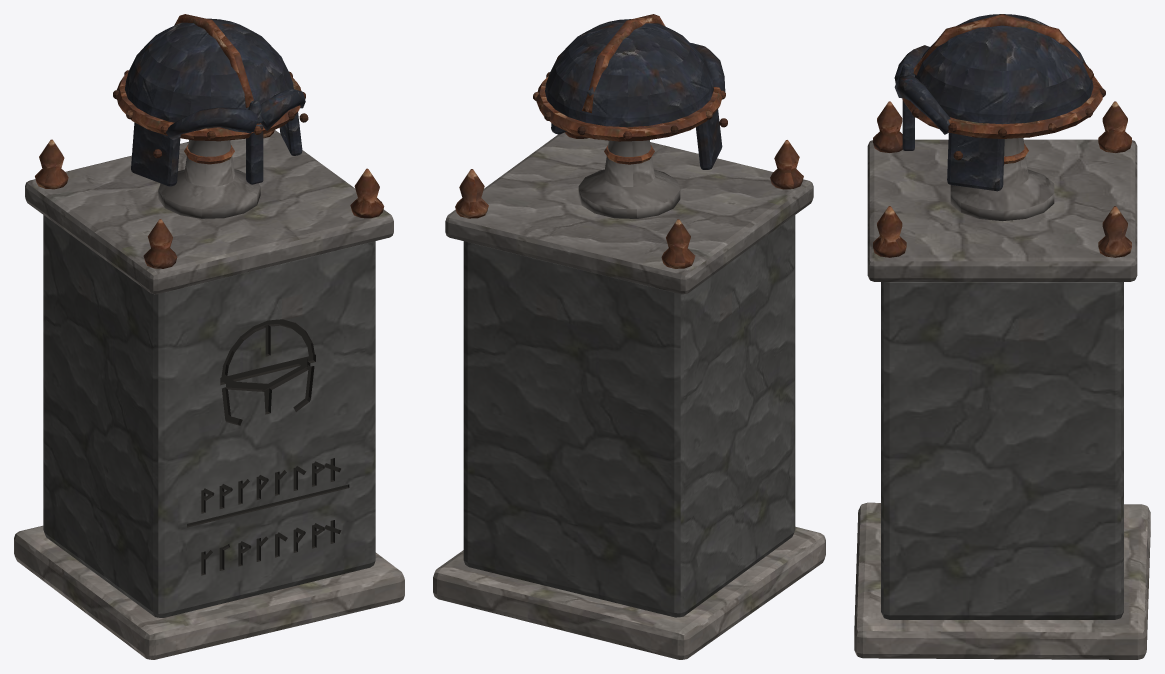
The model's file is th_brow_helm_plinth.glb.
The picture shows the model from 3 angles, left to right: view 1: azimuth 30°, elevation 25°; view 2: azimuth 150°, elevation 25°; view 3: azimuth 270°, elevation 25°; orthographic projection. The views are drawn at different scales.
Visible parts, largest first — view 1: model; view 2: model; view 3: model.
Part boxes in pixels (x1,y1,x2,y2): model: (14,14,404,659); model: (433,14,825,659); model: (854,14,1150,659).
Bounding box in the file's own units: 0.7068 × 1.45 × 0.6708.
7 materials, 6 textured.
